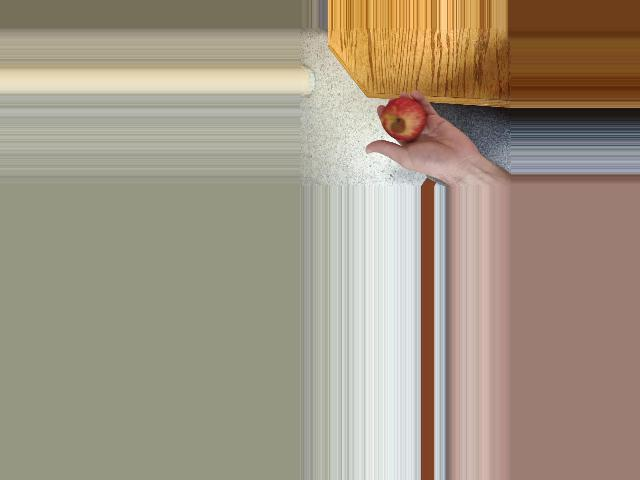apple: (373, 95, 433, 146)
